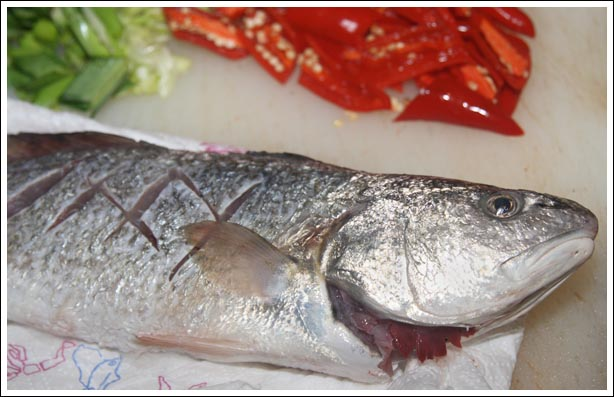fish: (0, 127, 606, 387)
